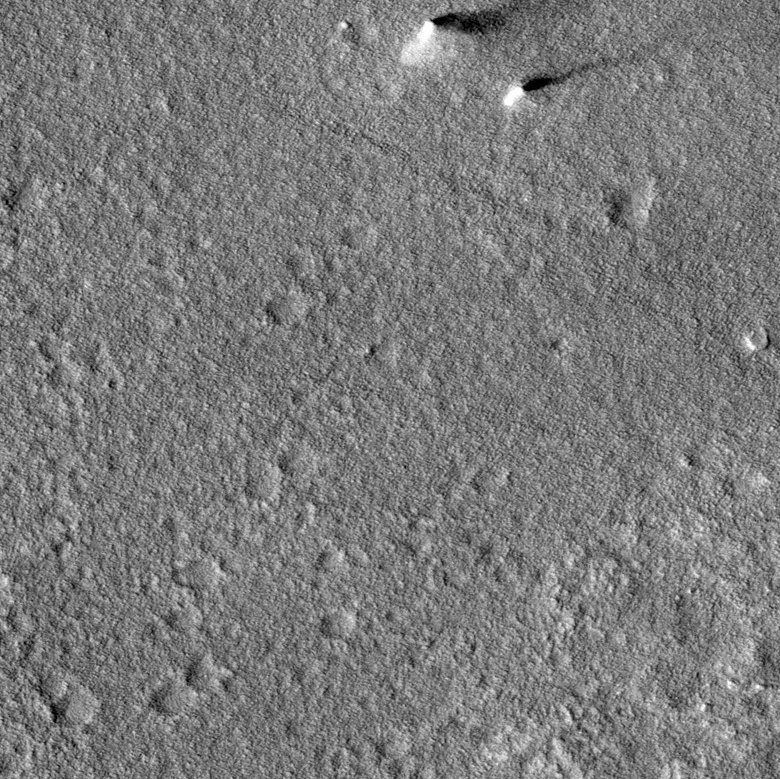dust_devil: (397, 5, 508, 70), (501, 62, 589, 110)
